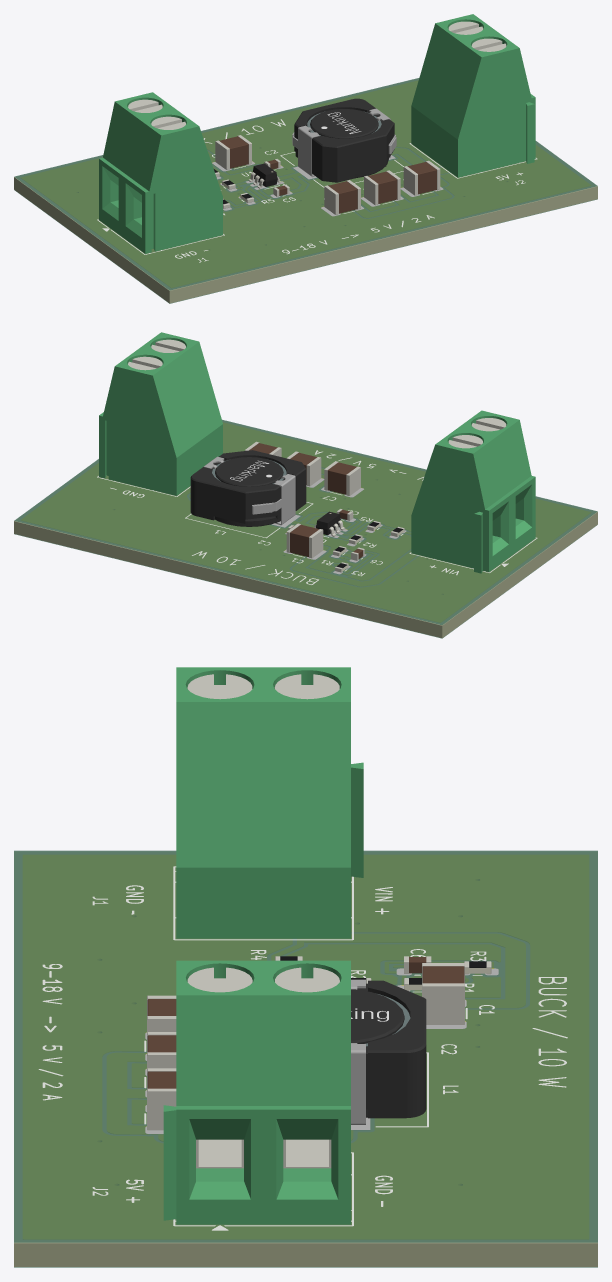
Rendered from assembly.glb.
3 views of the same model, one above another, from view 1: azimuth 30°, elevation 25°; view 2: azimuth 150°, elevation 25°; view 3: azimuth 270°, elevation 25° (orthographic). The views are drawn at different scales.
Visible parts, largest first — view 1: =>[0:1:1:20], =>[0:1:1:3] (×2), =>[0:1:1:15], =>[0:1:1:22], L_Wurth_WE-PD_1050P, =>[0:1:1:9] (×4), =>[0:1:1:18], =>[0:1:1:16], =>[0:1:1:21], =>[0:1:1:7]; view 2: =>[0:1:1:20], =>[0:1:1:15], =>[0:1:1:3] (×2), =>[0:1:1:22], L_Wurth_WE-PD_1050P, =>[0:1:1:9] (×3), =>[0:1:1:18], =>[0:1:1:16], =>[0:1:1:21], =>[0:1:1:7]; view 3: =>[0:1:1:20], =>[0:1:1:15], =>[0:1:1:3] (×2), =>[0:1:1:22], L_Wurth_WE-PD_1050P, =>[0:1:1:9] (×4), =>[0:1:1:18].
Part boxes in pixels (x1,y1,x2,y2): =>[0:1:1:20]: (14,78,597,290); =>[0:1:1:3] (×2): (99,14,535,253); =>[0:1:1:15]: (22,81,590,287); =>[0:1:1:22]: (14,79,597,303); L_Wurth_WE-PD_1050P: (292,98,396,182); =>[0:1:1:9] (×4): (215,135,440,214); =>[0:1:1:18]: (97,119,537,262); =>[0:1:1:16]: (212,155,443,216); =>[0:1:1:21]: (14,190,597,303); =>[0:1:1:7]: (248,163,281,188); =>[0:1:1:20]: (14,419,597,625); =>[0:1:1:15]: (21,423,590,622); =>[0:1:1:3] (×2): (99,332,535,573); =>[0:1:1:22]: (14,421,597,638); L_Wurth_WE-PD_1050P: (190,450,306,526); =>[0:1:1:9] (×3): (286,451,360,558); =>[0:1:1:18]: (97,450,537,584); =>[0:1:1:16]: (271,478,406,574); =>[0:1:1:21]: (14,524,597,638); =>[0:1:1:7]: (314,511,345,536); =>[0:1:1:20]: (14,850,597,1242); =>[0:1:1:15]: (23,855,588,1238); =>[0:1:1:3] (×2): (163,667,363,1224); =>[0:1:1:22]: (14,852,597,1266); L_Wurth_WE-PD_1050P: (351,979,426,1124); =>[0:1:1:9] (×4): (147,963,464,1130); =>[0:1:1:18]: (38,866,567,1230).
Size of the model in its own units: 0.054 by 0.0173 by 0.034.
